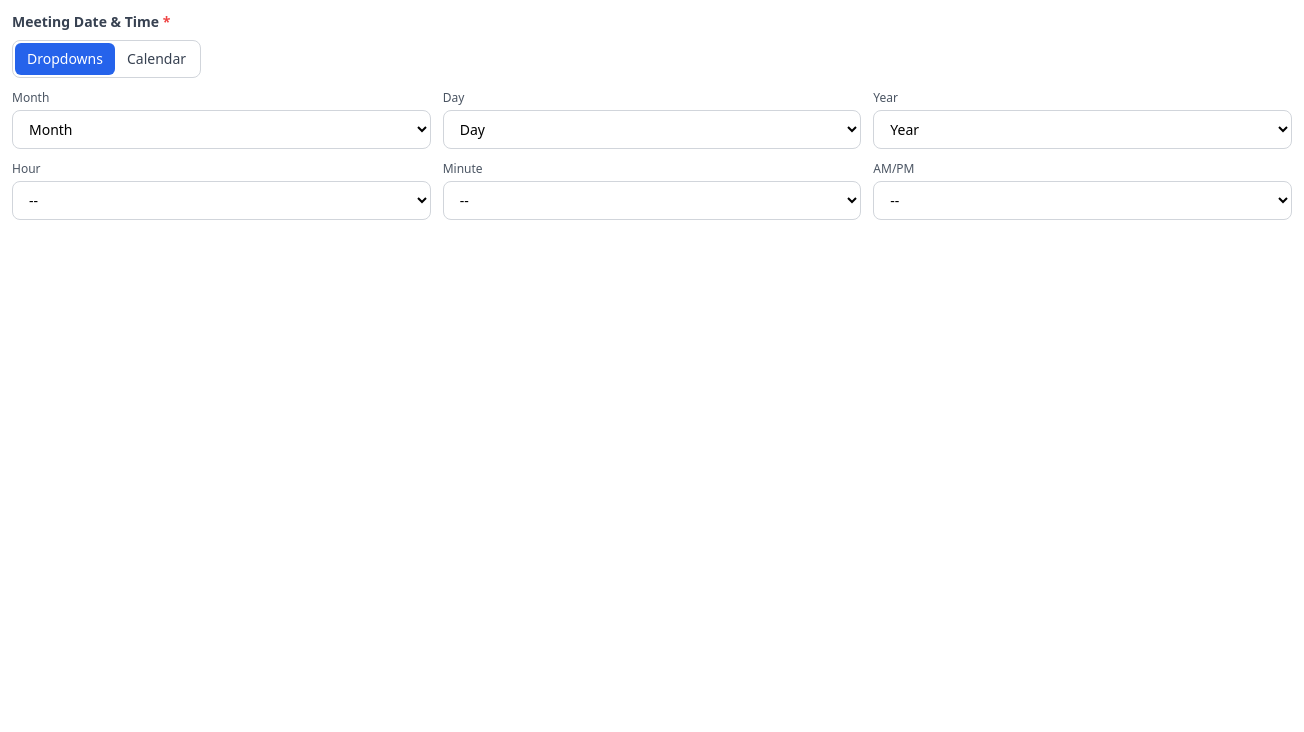
it: the calendar is an option that replaces the date dropdowns and keeps the time fields
This screenshot has width=1304, height=732.
Expected: the button "Dropdowns" is shown, [15,43,115,75]
Expected: the dropdown labelled "Month" is shown, [12,110,431,149]
Click the button "Calendar". click: {"x": 157, "y": 59}
box: [115,43,198,75]
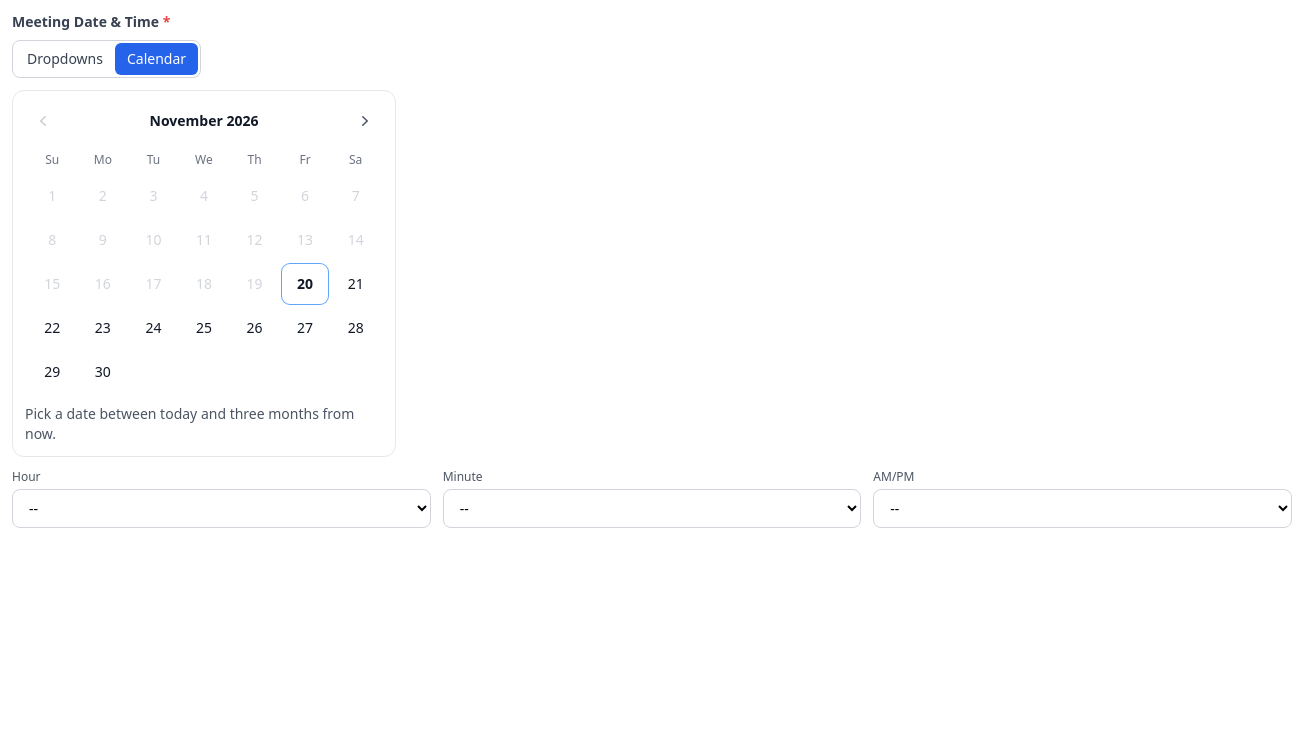
Expected: the dropdown labelled "Hour" is shown, [12,489,431,528]
Expected: the table named "November 2026" is shown, [25,147,383,396]
